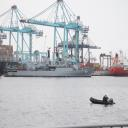Fragata: (6, 35, 96, 79)
